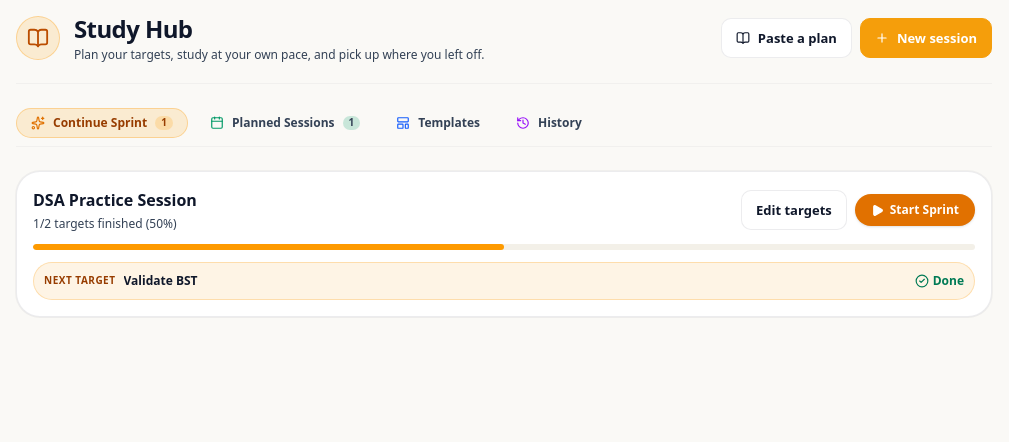
StudyView Component › switches to History tab and displays completed study tasks and sprint logs
Click the tab "History" at [549, 123], box top-left (502, 109), bottom-right (596, 137)
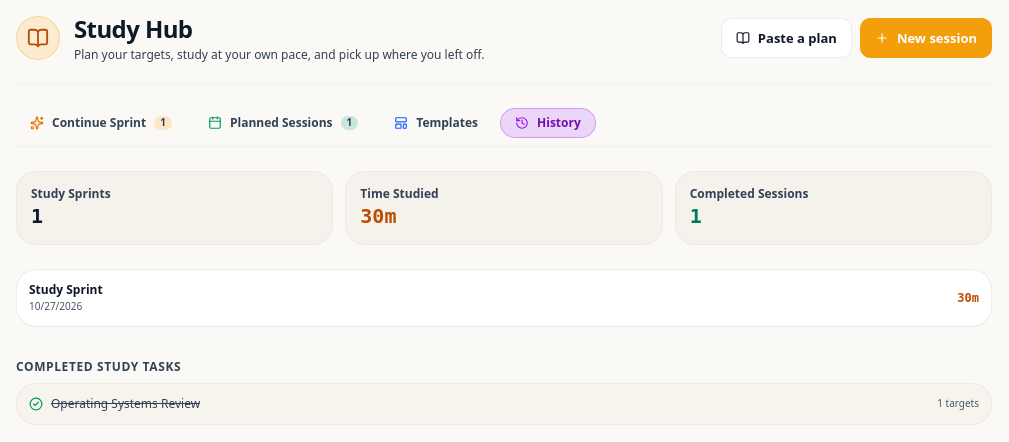
Check: the heading "Completed Study Tasks" is shown, box top-left (16, 358), bottom-right (181, 375)
Check: the text "Operating Systems Review" is shown, box top-left (51, 396), bottom-right (200, 412)
Check: the text "Study Sprints" is shown, box top-left (31, 185), bottom-right (111, 202)
